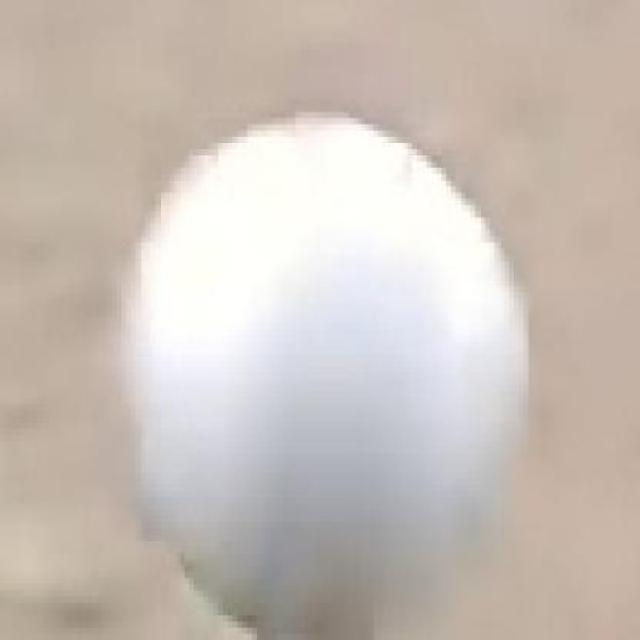Cricket ball: (124, 113, 533, 640)
